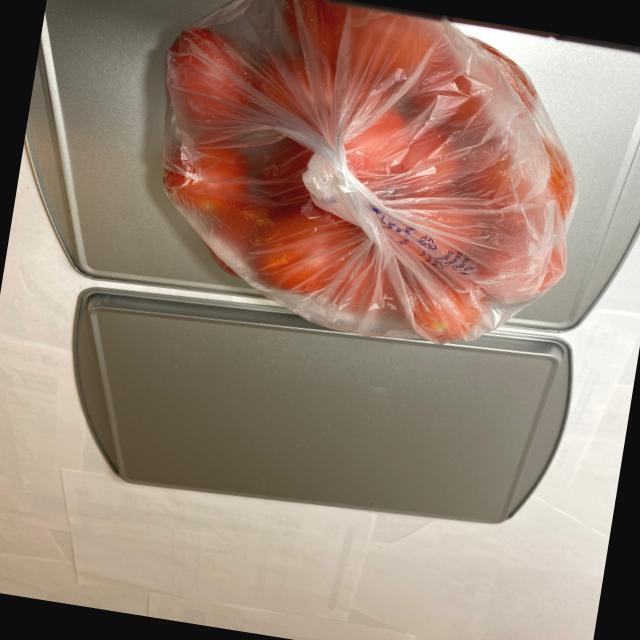tomato: (128, 0, 598, 355)
